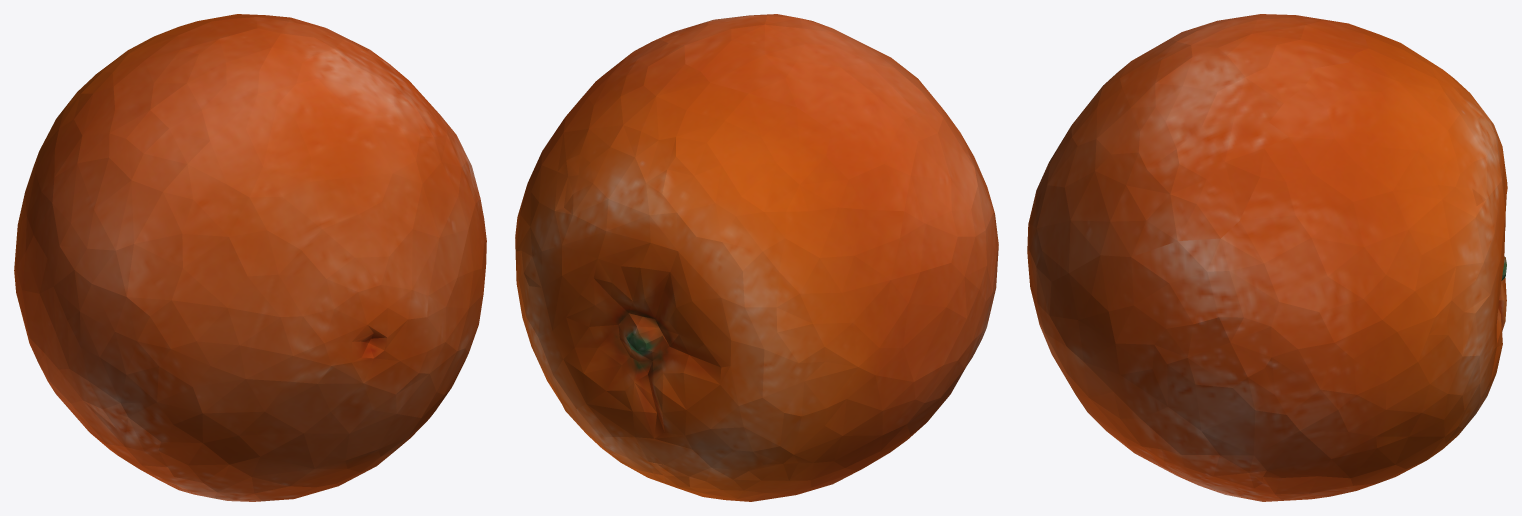
File: 017_orange.obj
The picture shows the model from 3 angles, left to right: view 1: azimuth 30°, elevation 25°; view 2: azimuth 150°, elevation 25°; view 3: azimuth 270°, elevation 25°; orthographic projection. The views are drawn at different scales.
Parts seen in each view (by area): view 1: textured; view 2: textured; view 3: textured.
Part boxes in pixels (box(x1,y1,x2,y2)): textured: box(14, 14, 486, 501); textured: box(515, 14, 998, 501); textured: box(1027, 14, 1507, 501).
Bounding box in the file's own units: 0.0721 × 0.074 × 0.0714.
